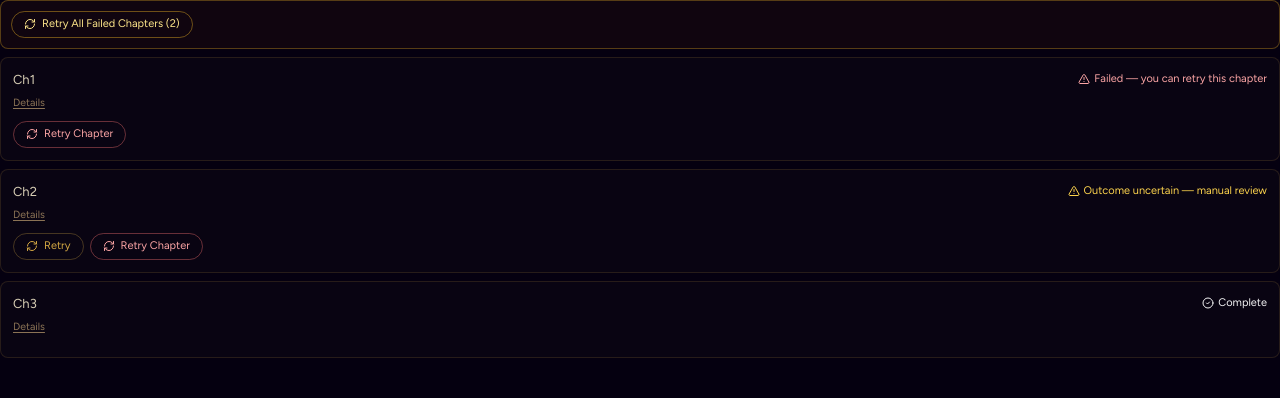
BookFactoryChapterReview — failed-chapter recovery › Retry All Failed shows the failed-chapter count and a max-call estimate before confirming
Later steps or results of the test are not shown.
Click the button with test id "bf-retry-all-failed": click(102, 24) [11,11,193,38]
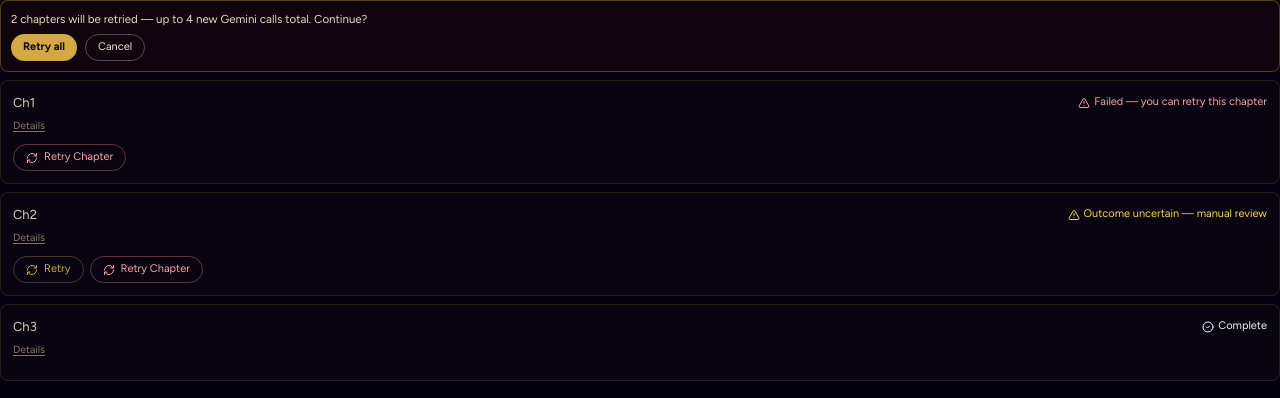
Check: the element with test id "bf-retry-all-failed-confirm" shows "4", box [186,12,193,26]
